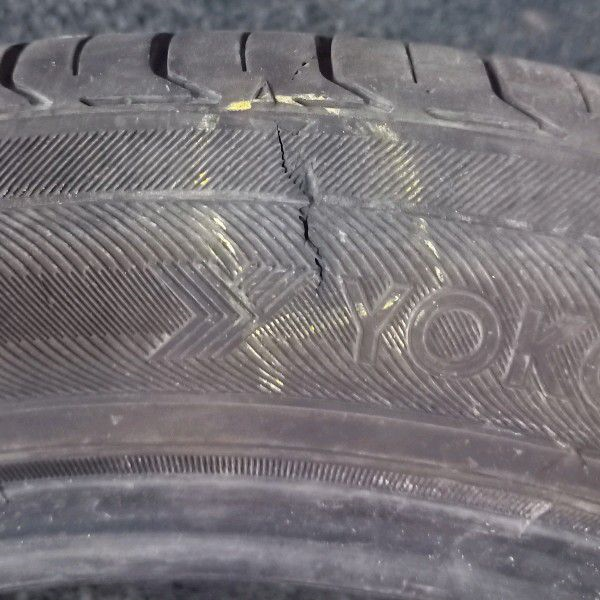cut: (239, 65, 342, 319)
